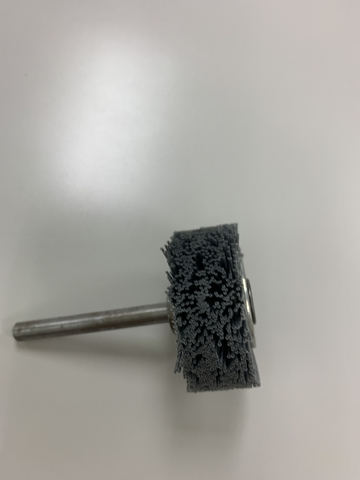Wheel Brush: (11, 225, 266, 391), (72, 222, 269, 399)
